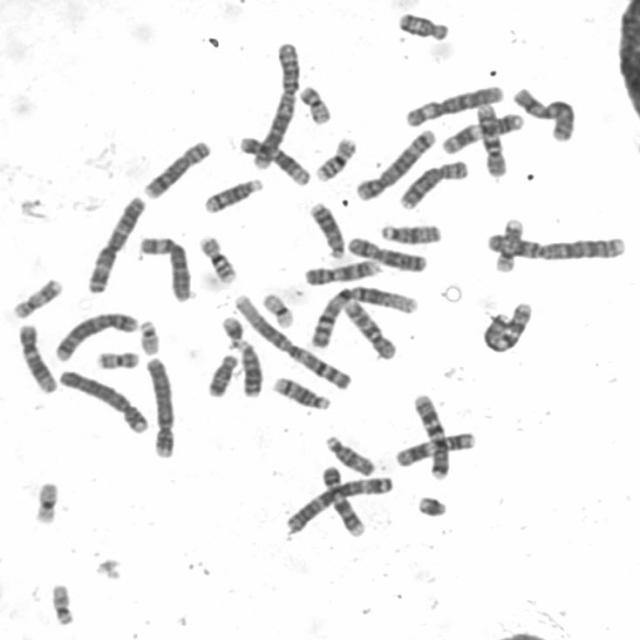A1: (231, 292, 352, 389), (306, 282, 421, 349)
A2: (248, 39, 302, 171), (481, 226, 627, 264)
A3: (283, 473, 394, 535), (84, 192, 147, 296)
B4: (56, 366, 150, 434), (142, 354, 177, 460)
B5: (353, 126, 438, 201), (52, 309, 140, 363)
C10: (340, 296, 398, 361), (474, 99, 508, 179)
C11: (438, 108, 525, 157), (391, 428, 477, 468)
C12: (236, 131, 312, 187), (16, 320, 58, 394)
C6: (403, 82, 503, 129), (136, 231, 194, 303)
C7: (410, 391, 451, 481), (480, 298, 536, 354)
C8: (139, 137, 212, 201), (396, 157, 470, 210)
C9: (319, 463, 366, 538), (302, 256, 382, 287)
D13: (306, 198, 346, 260), (229, 335, 265, 399)
D14: (201, 176, 264, 214), (268, 374, 332, 410)
D15: (324, 432, 376, 478), (377, 220, 444, 246)
E16: (312, 134, 359, 183), (196, 233, 239, 286)
E17: (10, 274, 66, 320), (491, 215, 526, 274)
E18: (395, 9, 451, 43), (204, 351, 240, 399)
F19: (259, 289, 296, 330), (31, 478, 61, 527)
F20: (297, 82, 333, 126), (94, 348, 142, 371)
G21: (414, 491, 449, 519), (220, 313, 245, 345)
G22: (48, 580, 77, 627), (137, 315, 162, 357)
X: (509, 82, 576, 144), (344, 233, 428, 273)
